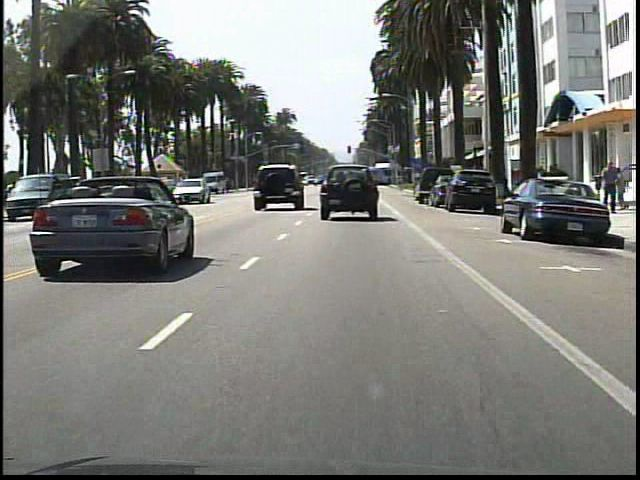person: (596, 157, 619, 215)
